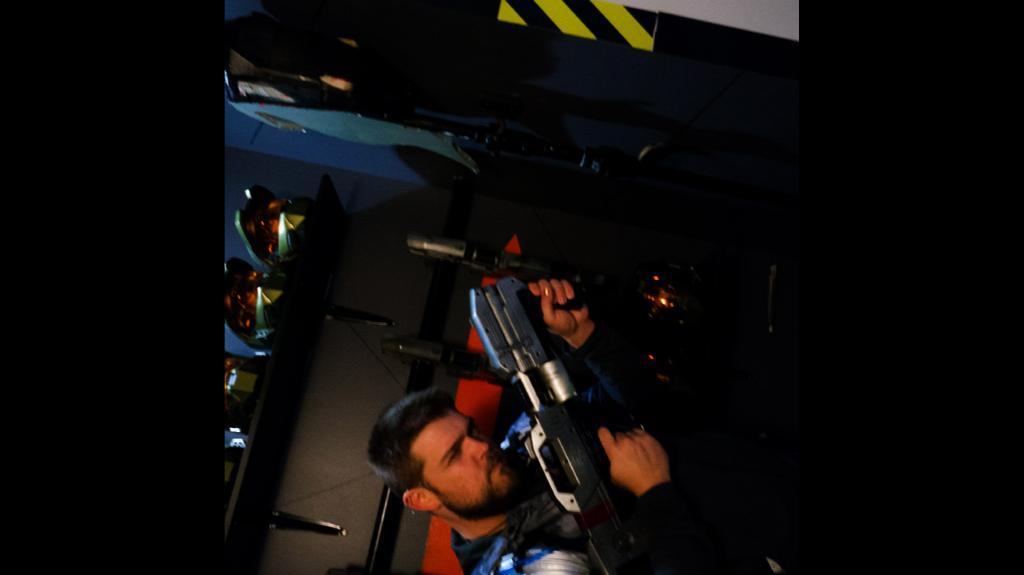gun: (443, 272, 674, 575)
